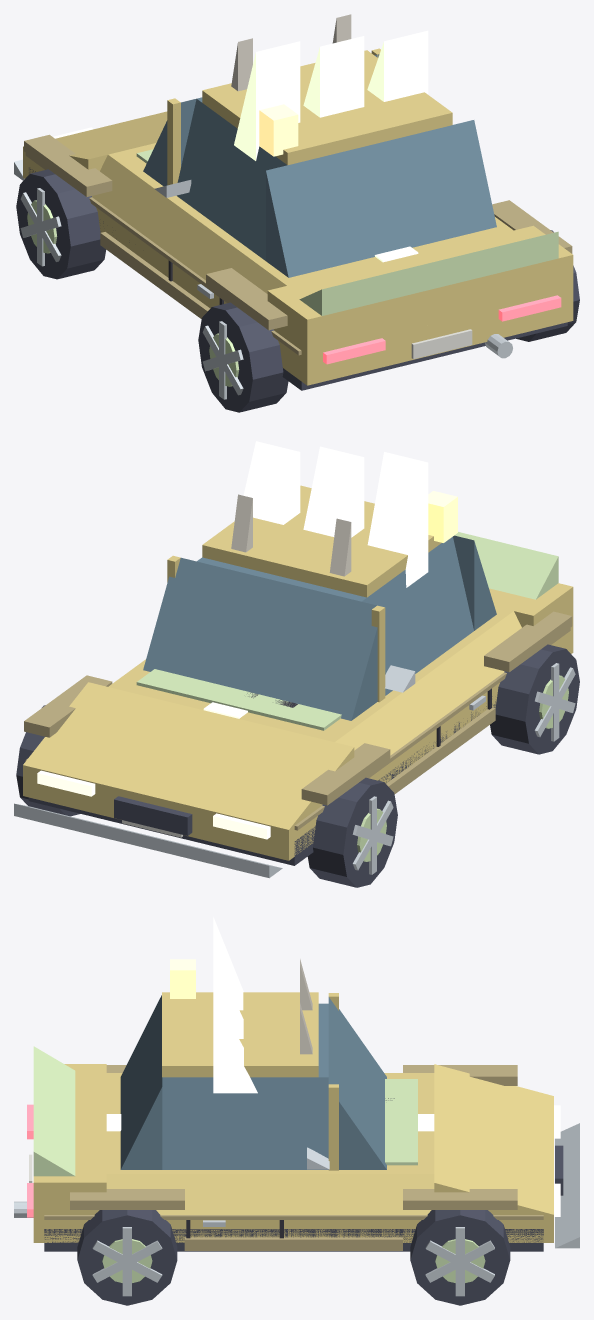
Rendered from fairy_flyer.glb.
3 renders of one model, top to bottom at view 1: azimuth 30°, elevation 25°; view 2: azimuth 150°, elevation 25°; view 3: azimuth 270°, elevation 25°, orthographic. The views are drawn at different scales.
Parts seen in each view (by area): view 1: RearWindow.232, Tail.136, Body.332, CabinSideL.129, Roof.332, ShoulderL.129, Ducktail.088, Wheel_RL.272, Wheel_FL.272, Crystal0.009, Crystal1.009, BodyUpper.129 (+19 smaller); view 2: Nose.129, Windshield.232, Roof.332, CabinSideL.129, Body.332, ShoulderL.129, Crystal0.009, Wheel_FL.272, Wheel_RL.272, Crystal1.009, Hood.328, BodyUpper.129 (+21 smaller); view 3: CabinSideR.129, Nose.129, ShoulderR.129, Roof.332, Windshield.232, Body.332, Tail.136, RearWindow.232, Wheel_FR.272, Wheel_RR.272, Ducktail.088, BodyUpper.129 (+23 smaller).
Boxes of the visible parts, x1,y1,x2,y2 form: RearWindow.232: (266, 120, 496, 277); Tail.136: (267, 225, 573, 354); Body.332: (23, 147, 573, 385); CabinSideL.129: (177, 99, 286, 260); Roof.332: (202, 50, 452, 165); ShoulderL.129: (92, 155, 286, 293); Ducktail.088: (299, 231, 558, 315); Wheel_RL.272: (198, 302, 288, 412); Wheel_FL.272: (16, 169, 105, 279); Crystal0.009: (234, 41, 300, 160); Crystal1.009: (303, 36, 364, 117); BodyUpper.129: (108, 143, 513, 285); Nose.129: (23, 682, 354, 829); Windshield.232: (143, 557, 377, 720); Roof.332: (202, 485, 441, 597); CabinSideL.129: (362, 536, 473, 695); Body.332: (23, 622, 573, 860); ShoulderL.129: (335, 611, 521, 755); Crystal0.009: (367, 452, 428, 587); Wheel_FL.272: (307, 777, 397, 887); Wheel_RL.272: (490, 644, 579, 754); Crystal1.009: (303, 446, 364, 537); Hood.328: (136, 669, 341, 730); BodyUpper.129: (108, 606, 513, 741); CabinSideR.129: (162, 1077, 328, 1169); Nose.129: (434, 1064, 553, 1214); ShoulderR.129: (106, 1174, 434, 1214); Roof.332: (162, 992, 318, 1077); Windshield.232: (328, 997, 386, 1169); Body.332: (33, 1215, 553, 1242); Tail.136: (33, 1064, 106, 1214); RearWindow.232: (120, 995, 162, 1169); Wheel_FR.272: (410, 1210, 510, 1305); Wheel_RR.272: (77, 1210, 177, 1305); Ducktail.088: (33, 1046, 75, 1176); BodyUpper.129: (106, 1073, 434, 1173).
Bounding box in the file's own units: 3.4 × 2.95 × 5.44.
